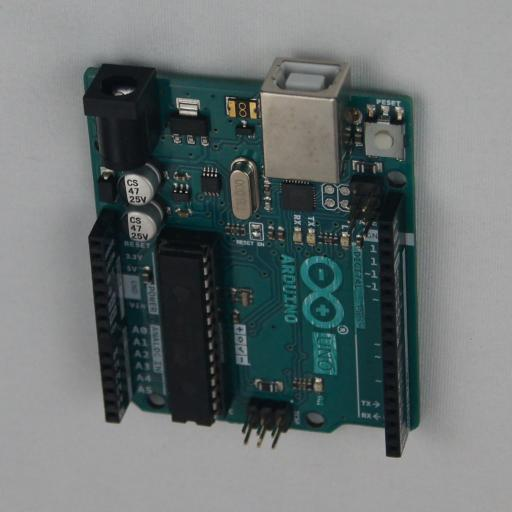RASPBERRY_PI_3B_PLUS: (83, 57, 420, 457)
